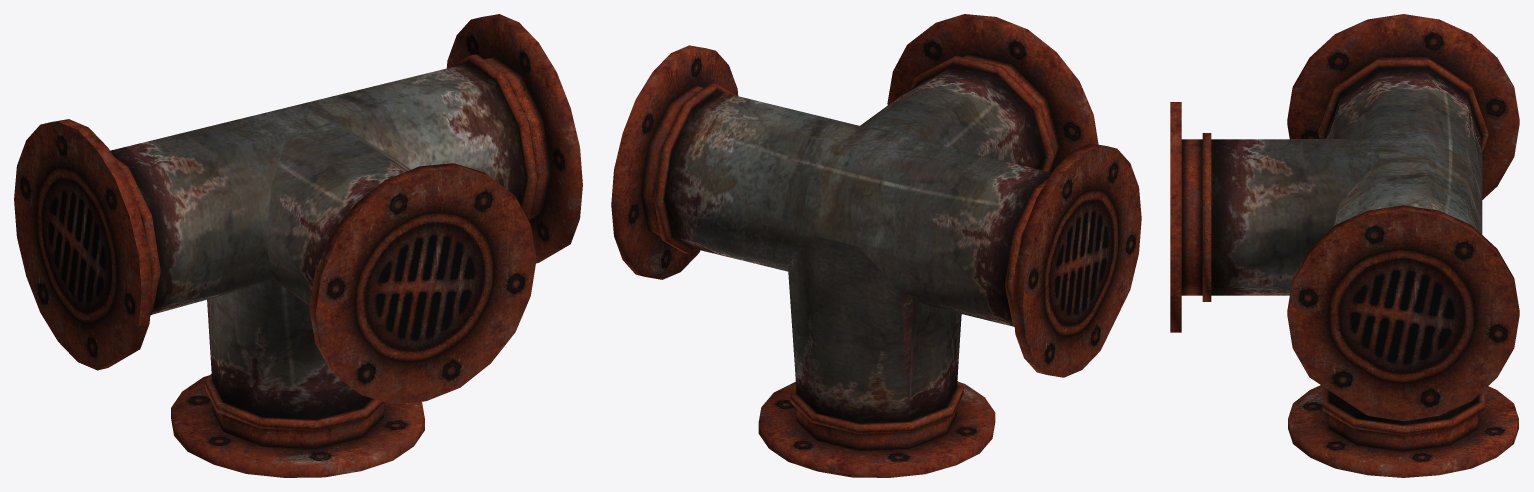
File: 4way.dae
3 views of the same model, side by side, from view 1: azimuth 30°, elevation 25°; view 2: azimuth 150°, elevation 25°; view 3: azimuth 270°, elevation 25° (orthographic). The views are drawn at different scales.
Visible parts, largest first — view 1: polySurface778; view 2: polySurface778; view 3: polySurface778.
Boxes of the visible parts, x1=… form: polySurface778: x1=14, y1=14, x2=582, y2=477; polySurface778: x1=611, y1=14, x2=1141, y2=477; polySurface778: x1=1170, y1=14, x2=1519, y2=477.
Bounding box in the file's own units: 0.995 × 0.7504 × 0.7492.
